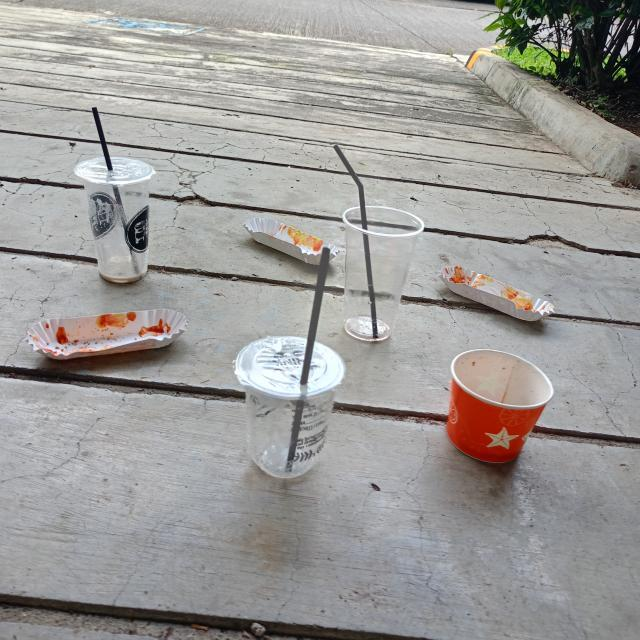recyclable waste: (226, 317, 351, 491), (318, 202, 437, 346), (434, 342, 558, 468), (66, 144, 162, 296), (26, 303, 192, 372), (431, 262, 562, 322), (228, 210, 346, 270)
